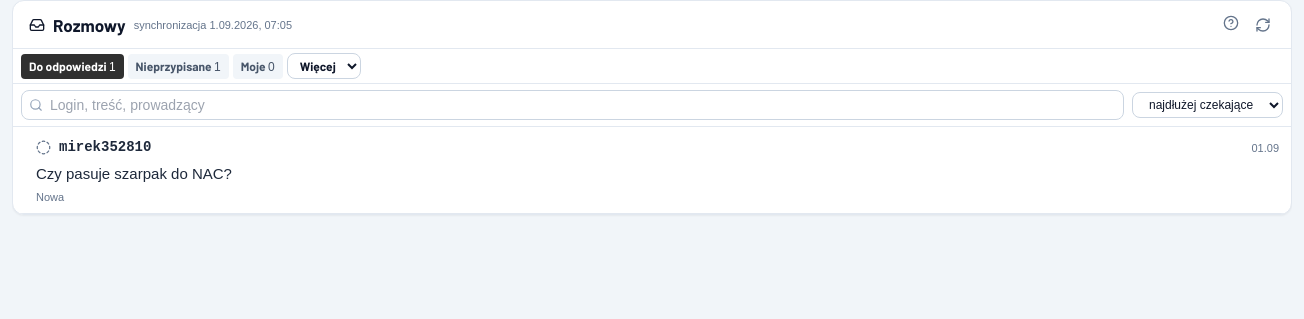
Szukanie w kolejce › zawęża po loginie klienta
This screenshot has width=1304, height=319.
Type keys "6"
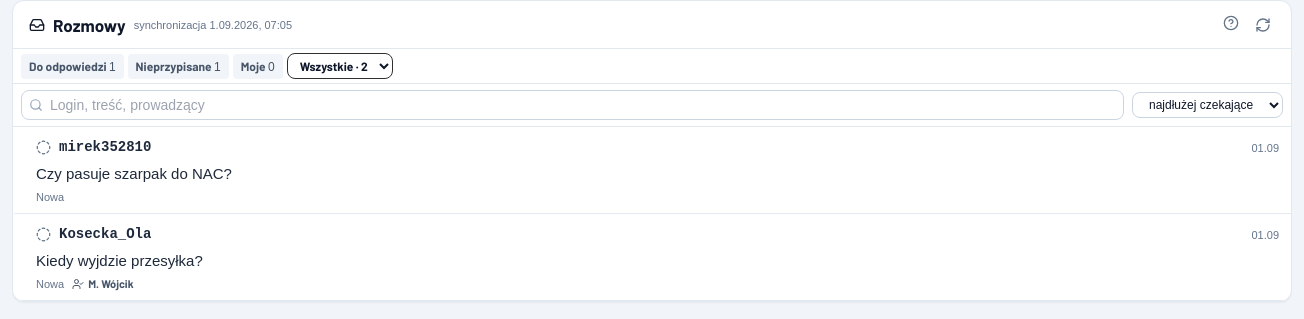
Type "mirek" into the field named "Szukaj w rozmowach" at (572, 105), box [21, 90, 1124, 120]
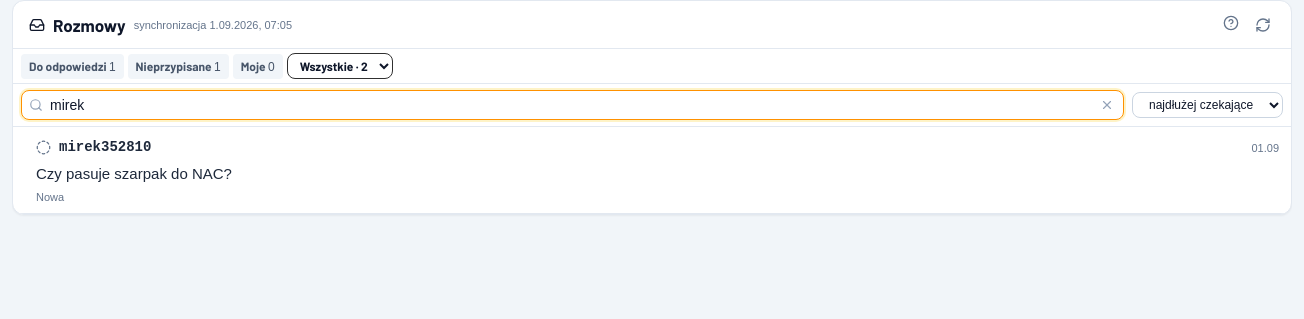
Expected: the text "mirek352810" is shown, [59, 137, 151, 157]
Expected: the button "Kosecka_Ola" is gone
